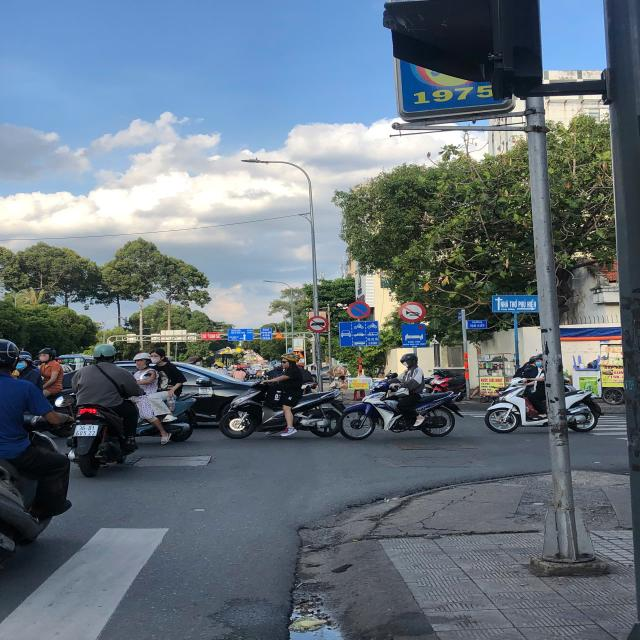Bien bao cam do xe: (344, 298, 372, 322)
Bien bao cam xe so-mi ro-mooc: (304, 313, 330, 337)
